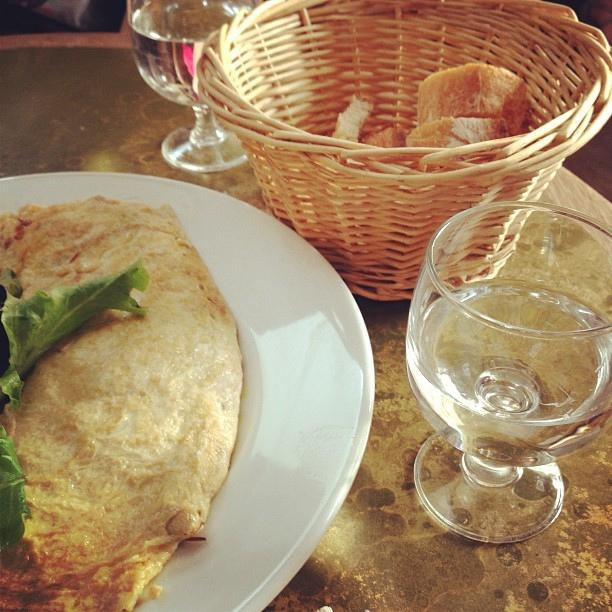lettuce: (0, 252, 150, 413), (0, 419, 30, 551)
